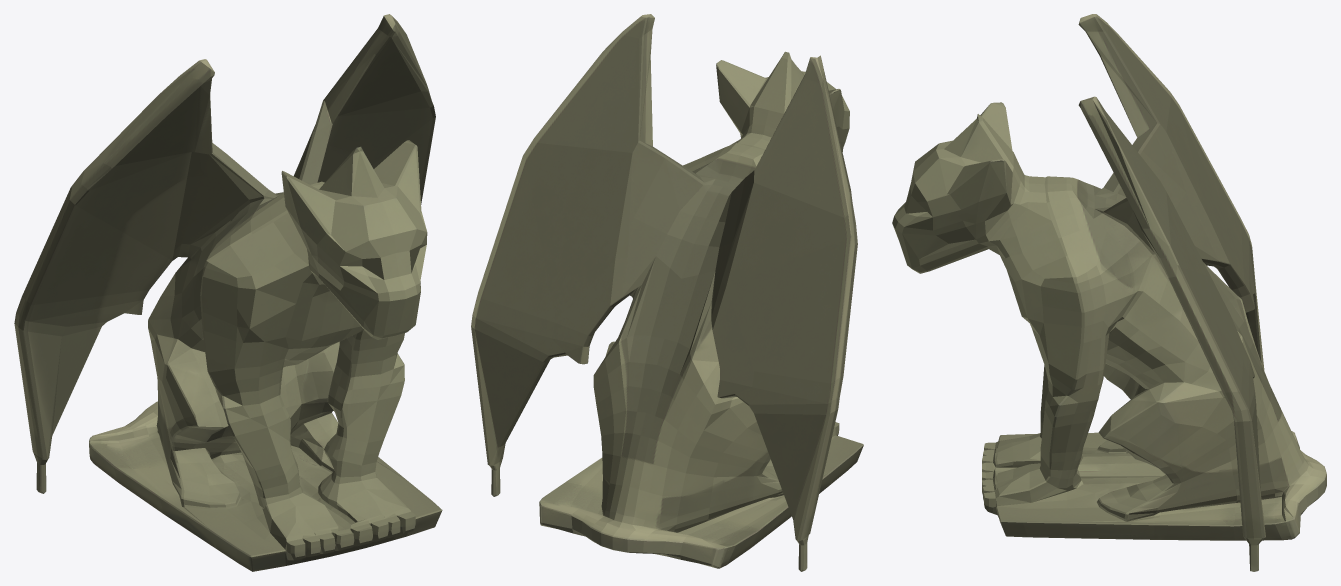
Rendered from Statue.fbx.
3 views of the same model, side by side, from view 1: azimuth 30°, elevation 25°; view 2: azimuth 150°, elevation 25°; view 3: azimuth 270°, elevation 25° (orthographic). The views are drawn at different scales.
Visible parts, largest first — view 1: temp; view 2: temp; view 3: temp.
Part boxes in pixels (<box>): temp: <box>14,14,442,571</box>; temp: <box>471,14,863,571</box>; temp: <box>892,14,1326,571</box>.
Bounding box in the file's own units: 164 × 191 × 171.
1 material, 1 textured.
